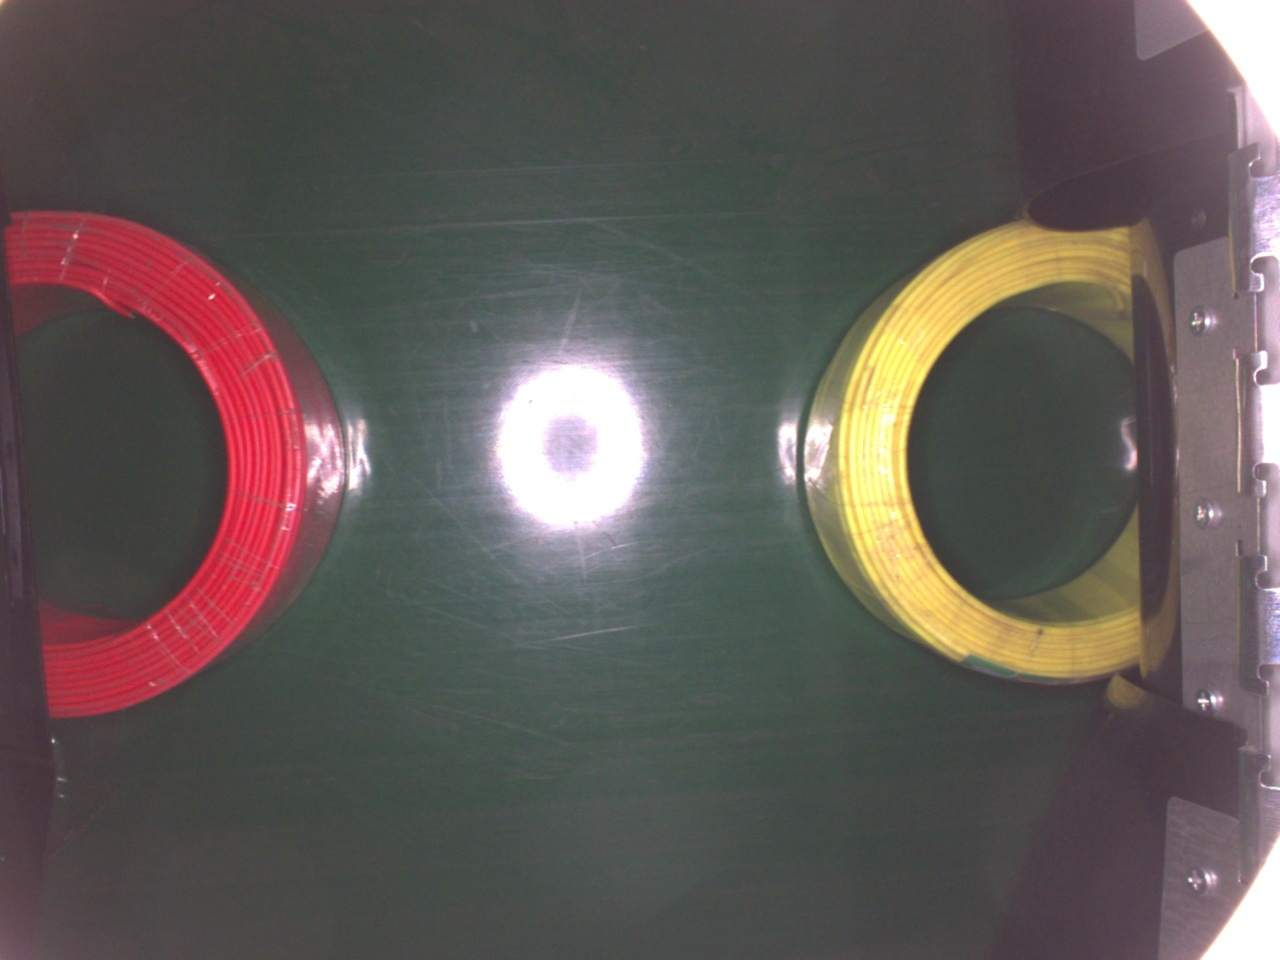red: (0, 205, 348, 717)
yellow: (796, 218, 1135, 688)
